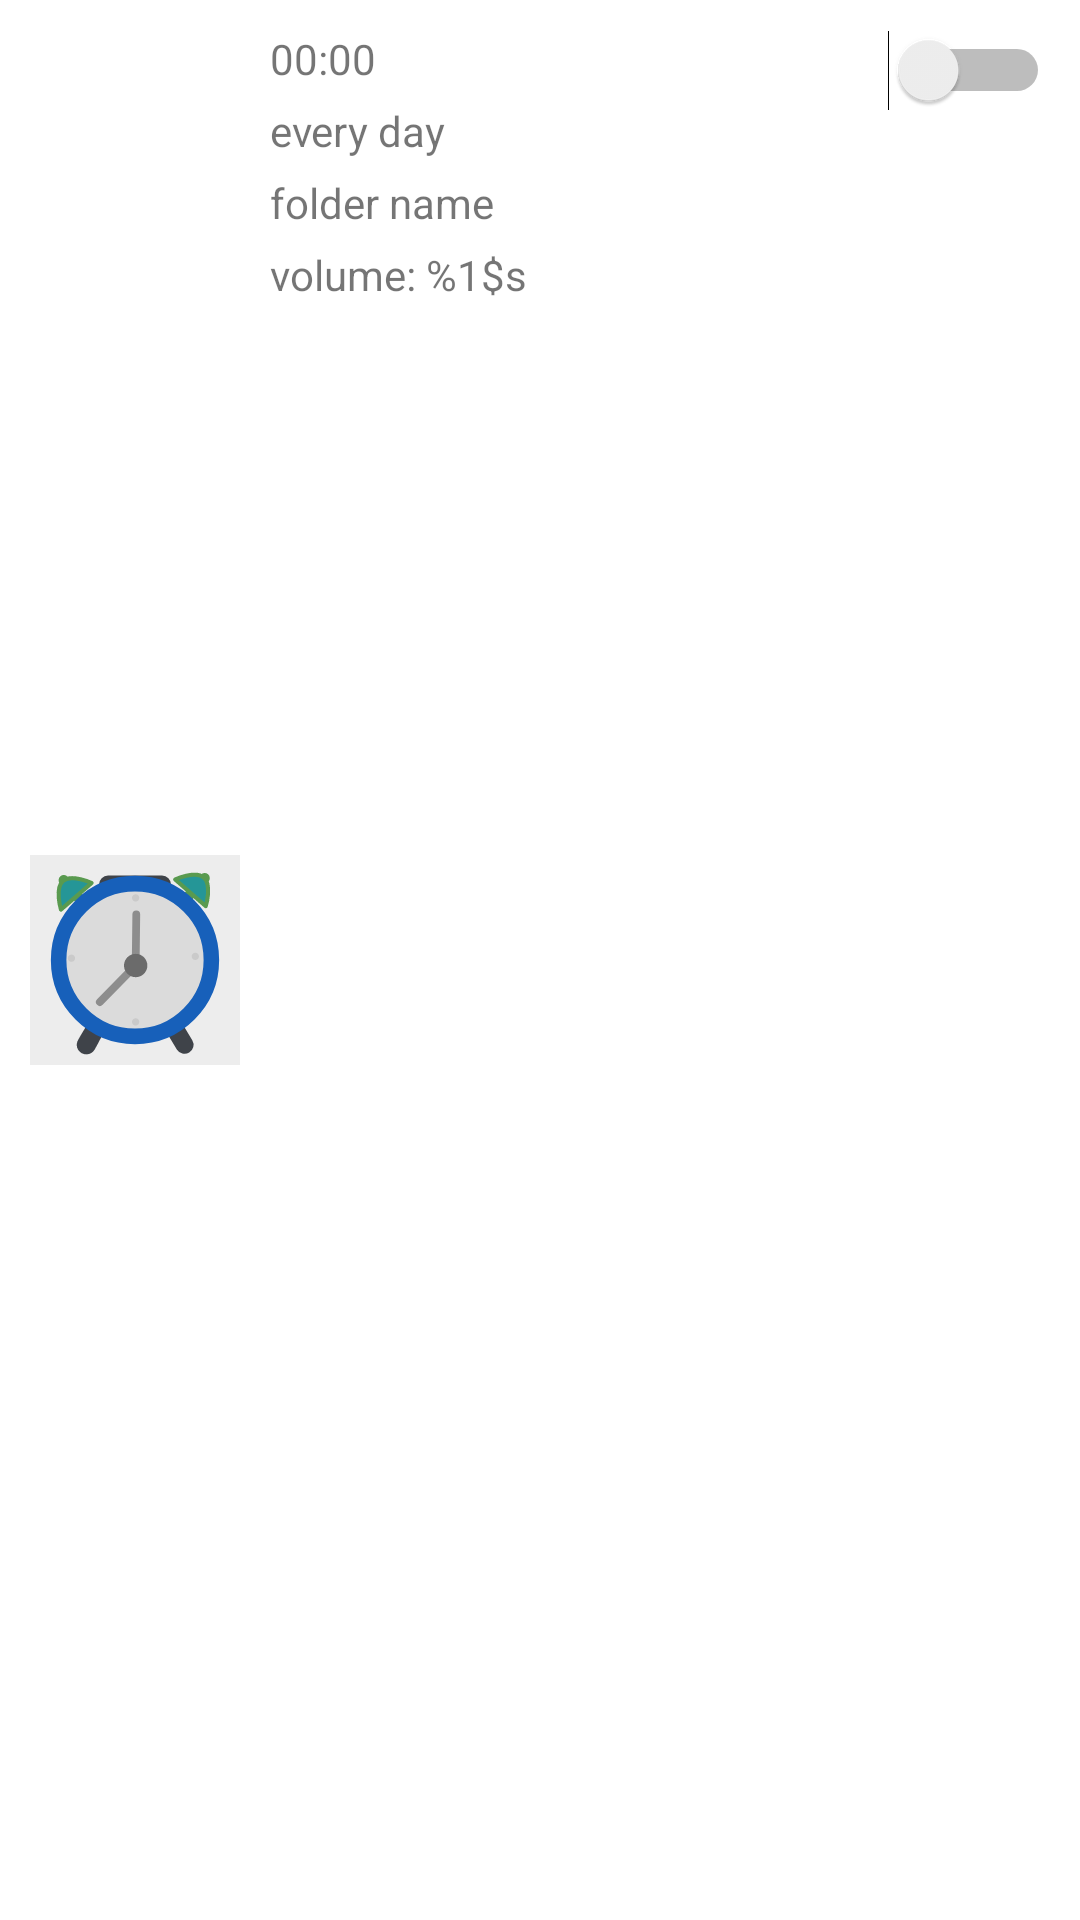

Where icons sit on this 1080w x 1920h app screen, as [x1=x1, y1=y1, x2=x2, y2=y2]:
math puzzle alarm app: [x1=50, y1=872, x2=220, y2=1055]
